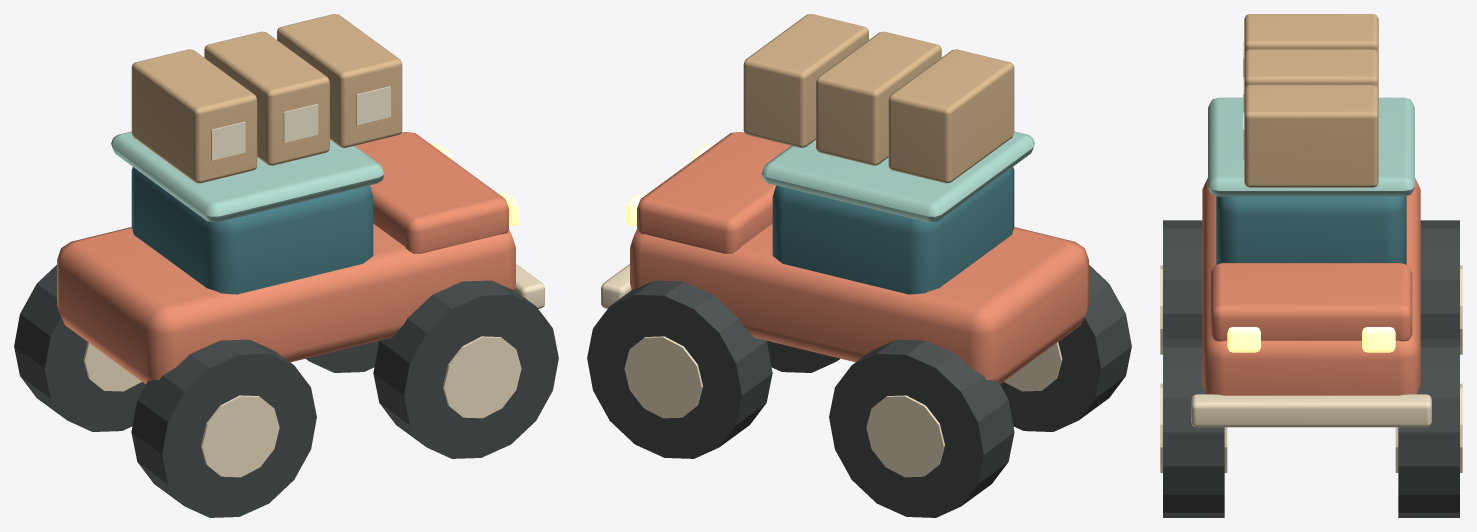
Rendered from buggy.glb.
The picture shows the model from 3 angles, left to right: view 1: azimuth 30°, elevation 25°; view 2: azimuth 150°, elevation 25°; view 3: azimuth 270°, elevation 25°; orthographic projection.
Parts seen in each view (by area): view 1: Chassis, Tire, Tire.001, Cabin, Parcel, Nose, Roof, Tire.002, Parcel.002, Parcel.001, Hub, Hub.001 (+6 smaller); view 2: Chassis, Tire.002, Tire.003, Cabin, Parcel, Nose, Roof, Parcel.002, Parcel.001, Tire, Hub.002, Hub.003 (+3 smaller); view 3: Chassis, Nose, Parcel.002, Cabin, Tire.003, Tire.001, Roof, Front bumper, Parcel, Parcel.001, Tire.002, Tire (+4 smaller).
Part boxes in pixels (x1=…): Chassis: x1=57, y1=224, x2=515, y2=383; Tire: x1=131, y1=339, x2=316, y2=517; Tire.001: x1=373, y1=280, x2=558, y2=458; Cabin: x1=131, y1=167, x2=373, y2=294; Parcel: x1=131, y1=49, x2=257, y2=183; Nose: x1=355, y1=132, x2=508, y2=253; Roof: x1=111, y1=131, x2=384, y2=222; Tire.002: x1=14, y1=265, x2=145, y2=431; Parcel.002: x1=277, y1=14, x2=402, y2=147; Parcel.001: x1=204, y1=31, x2=329, y2=165; Hub: x1=201, y1=395, x2=279, y2=477; Hub.001: x1=443, y1=336, x2=521, y2=418; Chassis: x1=630, y1=224, x2=1088, y2=383; Tire.002: x1=829, y1=339, x2=1014, y2=517; Tire.003: x1=587, y1=280, x2=772, y2=458; Cabin: x1=772, y1=167, x2=1014, y2=294; Parcel: x1=888, y1=49, x2=1014, y2=183; Nose: x1=637, y1=132, x2=790, y2=253; Roof: x1=761, y1=131, x2=1034, y2=222; Parcel.002: x1=743, y1=14, x2=868, y2=147; Parcel.001: x1=816, y1=31, x2=941, y2=165; Tire: x1=1000, y1=265, x2=1131, y2=431; Hub.002: x1=866, y1=395, x2=944, y2=477; Hub.003: x1=624, y1=336, x2=702, y2=418; Chassis: x1=1202, y1=178, x2=1420, y2=395; Nose: x1=1210, y1=263, x2=1412, y2=341; Parcel.002: x1=1244, y1=85, x2=1378, y2=187; Cabin: x1=1216, y1=196, x2=1406, y2=264; Tire.003: x1=1398, y1=339, x2=1459, y2=517; Tire.001: x1=1163, y1=339, x2=1224, y2=517; Roof: x1=1208, y1=97, x2=1414, y2=196; Front bumper: x1=1191, y1=394, x2=1431, y2=427; Parcel: x1=1244, y1=14, x2=1378, y2=53; Parcel.001: x1=1244, y1=49, x2=1378, y2=89; Tire.002: x1=1420, y1=220, x2=1459, y2=338; Tire: x1=1163, y1=220, x2=1202, y2=338.
Size of the model in its own units: 82.5 by 74.5 by 54.
